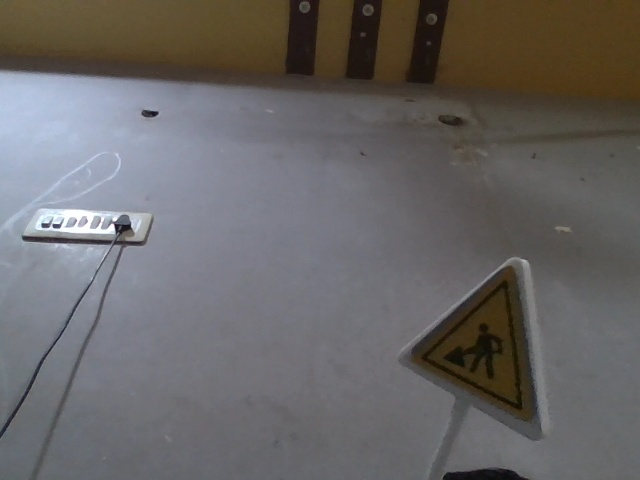workinprogress: (371, 248, 562, 435)
